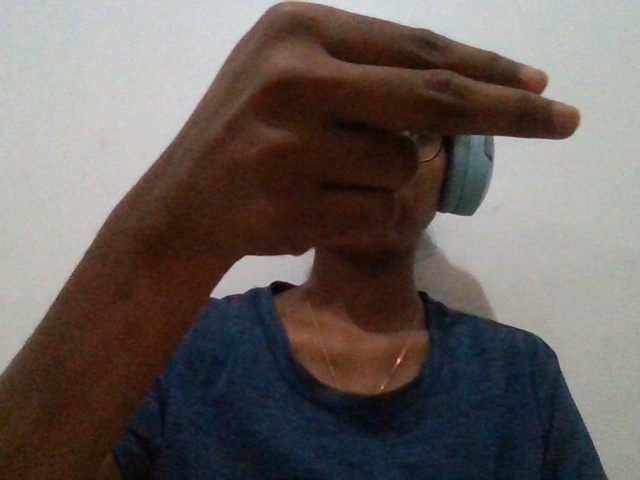H: (140, 2, 601, 293)
